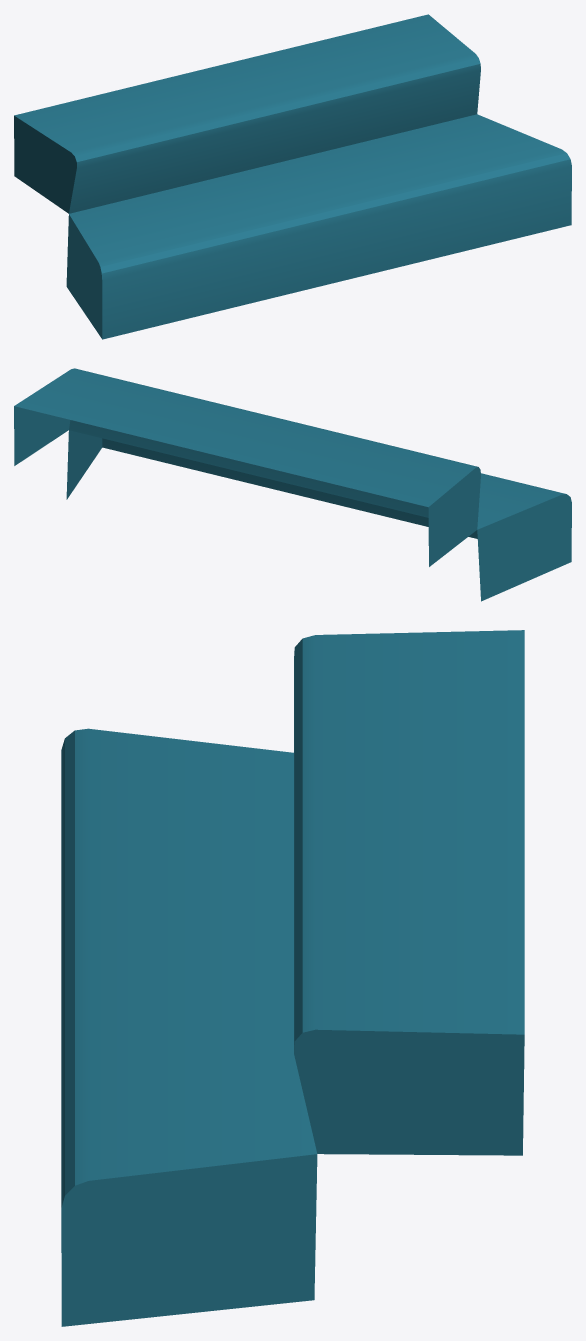
The model's file is Steps.fbx.
3 renders of one model, top to bottom at view 1: azimuth 30°, elevation 25°; view 2: azimuth 150°, elevation 25°; view 3: azimuth 270°, elevation 25°, orthographic. The views are drawn at different scales.
Visible parts, largest first — view 1: Steps; view 2: Steps; view 3: Steps.
Boxes of the visible parts, x1,y1,x2,y2 form: Steps: [14, 14, 571, 339]; Steps: [14, 368, 571, 601]; Steps: [61, 630, 524, 1326].
Bounding box in the file's own units: 2.27 × 0.612 × 0.9679.
